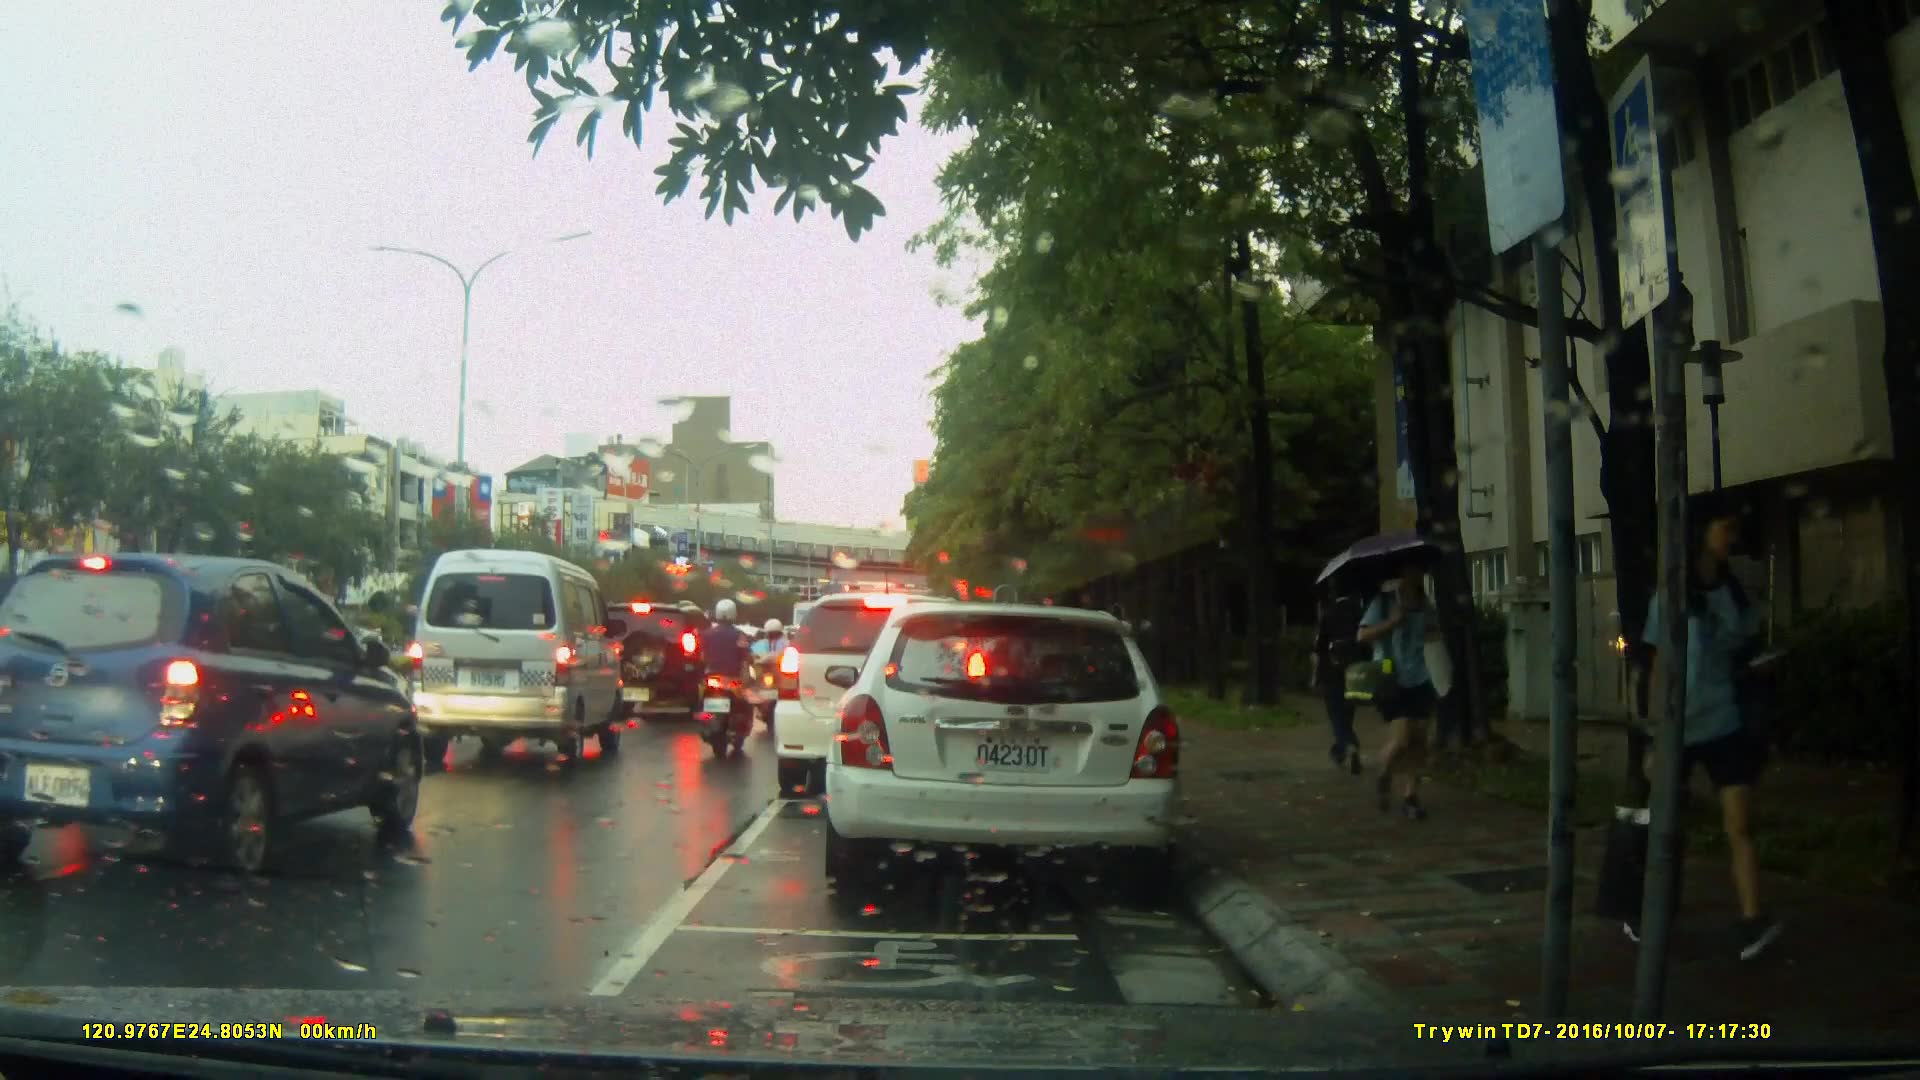pedestrian: (1636, 481, 1780, 976), (1354, 543, 1467, 830), (1309, 568, 1382, 781)
rider: (693, 593, 761, 768), (749, 620, 794, 738)
vehicle: (1, 550, 431, 883), (815, 593, 1204, 909), (405, 548, 628, 768), (770, 590, 993, 802), (584, 604, 737, 725)
